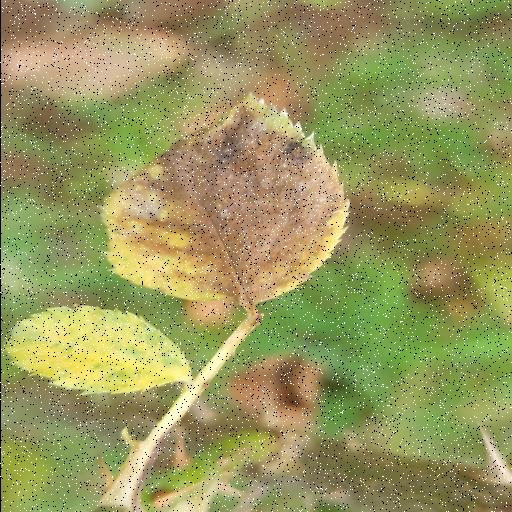thrip: (102, 97, 348, 308)
